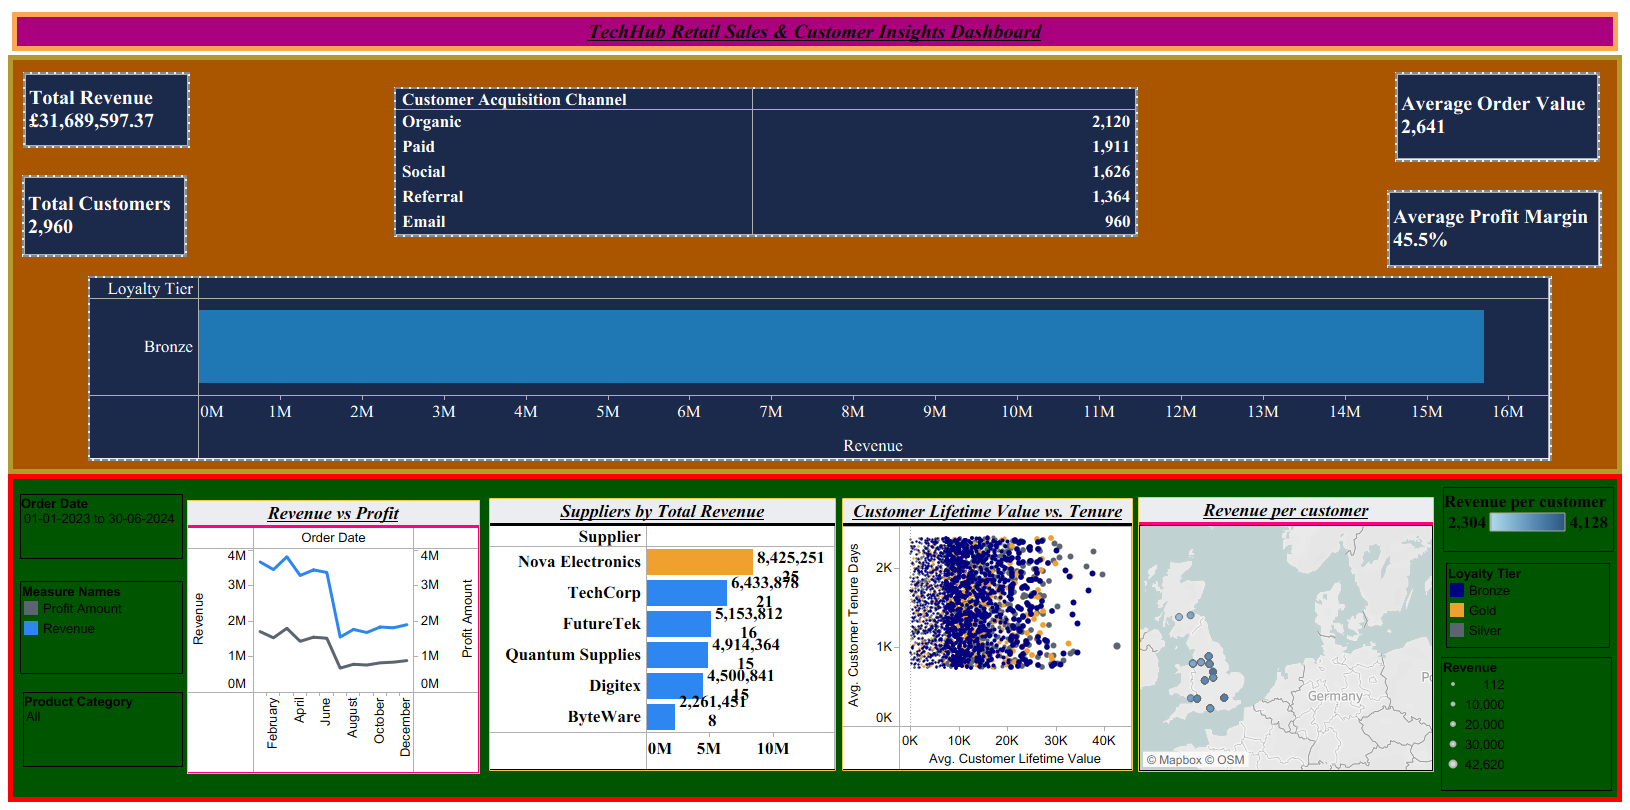

Layout of this report page (visuals, bound fields, positions):
{"tool":"tableau","page":{"name":"DASHBOARD","canvas":[1630,810],"ordinal":0},"visuals":[{"type":"text","box":[8,8,1614,47]},{"type":"worksheet","title":"Total Revenue","mark":"Automatic","box":[23,72,167,76]},{"type":"worksheet","title":"Average Order Value","mark":"Automatic","box":[1395,72,205,90]},{"type":"worksheet","title":"Customer Acquisition Rate","mark":"Automatic","rows":["customer_acquisition_channel"],"box":[394,87,744,150]},{"type":"worksheet","title":"Total Customers","mark":"Automatic","box":[22,175,165,82]},{"type":"worksheet","title":"Average Profit Margin","mark":"Automatic","box":[1387,190,215,78]},{"type":"worksheet","title":"Top Customer Segment","mark":"Automatic","rows":["loyalty_tier"],"cols":["revenue"],"box":[88,276,1464,185]},{"type":"legend","title":"Geographic Performance","param":"[federated.1nmt3w81ltde8o17gr2r21oirls5].[usr:Calculation_1542396599984134:qk]","box":[1443,487,171,65]},{"type":"filter","title":"Sales & Profitability Trends","param":"[federated.1nmt3w81ltde8o17gr2r21oirls5].[none:order_date:qk]","box":[20,494,163,65]},{"type":"worksheet","title":"Geographic Performance","mark":"Multipolygon","box":[1138,497,296,275]},{"type":"worksheet","title":"Supplier & Product Performance","mark":"Automatic","rows":["supplier"],"cols":["revenue"],"box":[489,498,347,273]},{"type":"worksheet","title":"Customer Segmentation Matrix","mark":"Circle","rows":["Calculation_1542396576149506"],"cols":["Calculation_1542396576387075"],"box":[842,498,291,273]},{"type":"worksheet","title":"Sales & Profitability Trends","mark":"Automatic","rows":["revenue","Calculation_1542396575891456"],"cols":["order_date"],"box":[187,500,293,274]},{"type":"legend","title":"Customer Segmentation Matrix","param":"[federated.1nmt3w81ltde8o17gr2r21oirls5].[none:loyalty_tier:nk]","box":[1446,563,164,85]},{"type":"legend","title":"Sales & Profitability Trends","param":"[federated.1nmt3w81ltde8o17gr2r21oirls5].[:Measure Names]","box":[20,581,163,93]},{"type":"legend","title":"Customer Segmentation Matrix","param":"[federated.1nmt3w81ltde8o17gr2r21oirls5].[sum:revenue:qk]","box":[1441,657,171,134]},{"type":"filter","title":"Sales & Profitability Trends","param":"[federated.1nmt3w81ltde8o17gr2r21oirls5].[none:product_category:nk]","box":[23,692,160,75]}]}

Visuals, with their boxes in screenshot pixels (x1, y1, x2, y2), scaled from the page's 1630x810 canvas onto the 1630x810 screenshot:
text: 8/8/1622/55
"Total Revenue" worksheet: 23/72/190/148
"Average Order Value" worksheet: 1395/72/1600/162
"Customer Acquisition Rate" worksheet: 394/87/1138/237
"Total Customers" worksheet: 22/175/187/257
"Average Profit Margin" worksheet: 1387/190/1602/268
"Top Customer Segment" worksheet: 88/276/1552/461
"Geographic Performance" legend: 1443/487/1614/552
"Sales & Profitability Trends" filter: 20/494/183/559
"Geographic Performance" worksheet (Multipolygon marks): 1138/497/1434/772
"Supplier & Product Performance" worksheet: 489/498/836/771
"Customer Segmentation Matrix" worksheet (Circle marks): 842/498/1133/771
"Sales & Profitability Trends" worksheet: 187/500/480/774
"Customer Segmentation Matrix" legend: 1446/563/1610/648
"Sales & Profitability Trends" legend: 20/581/183/674
"Customer Segmentation Matrix" legend: 1441/657/1612/791
"Sales & Profitability Trends" filter: 23/692/183/767
